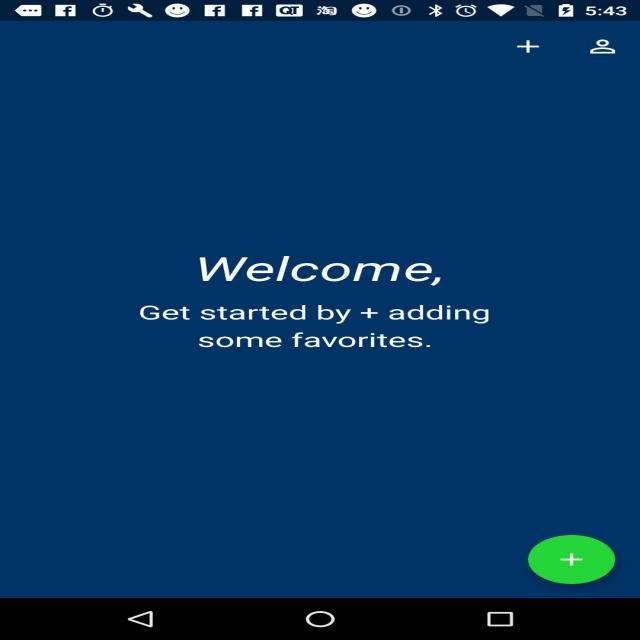text: (125, 236, 507, 380), (522, 520, 638, 584), (515, 20, 639, 61)
